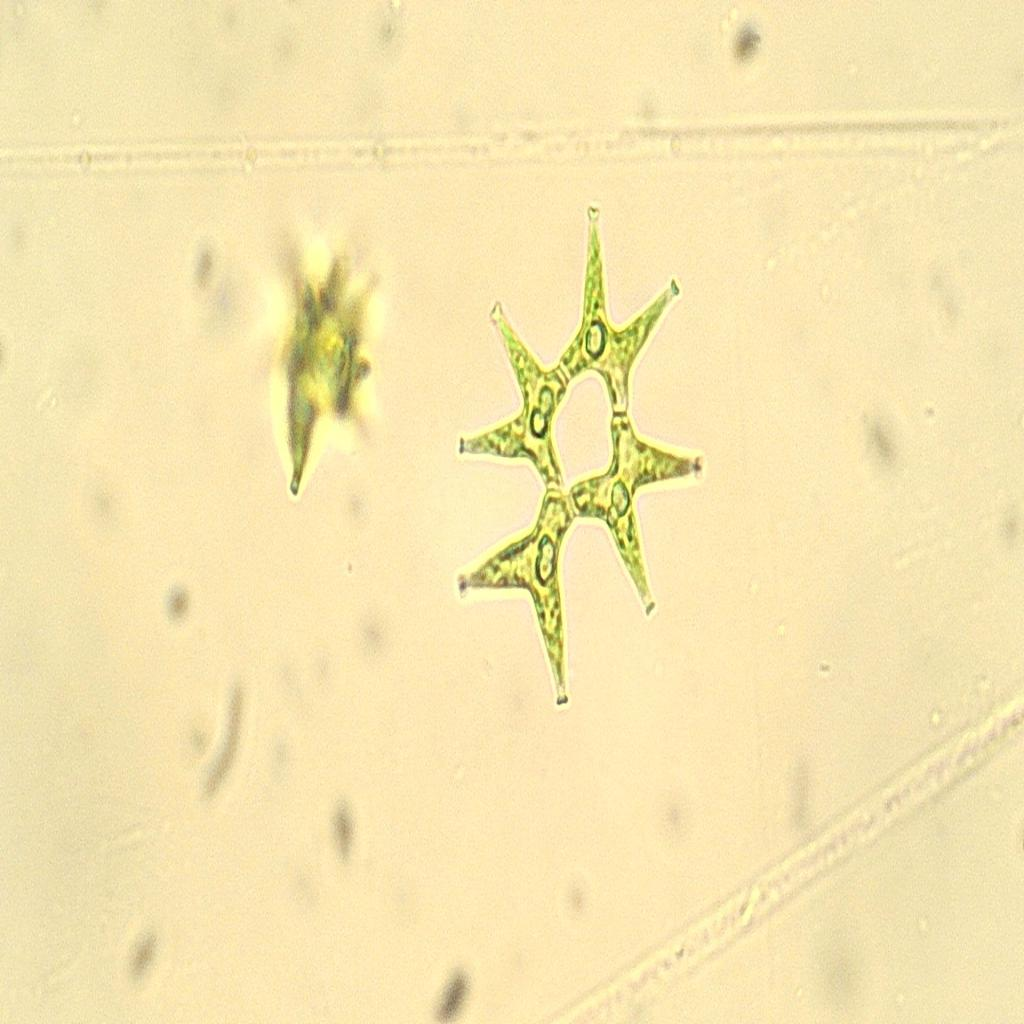Pediastrum_CT: (445, 186, 718, 724)
